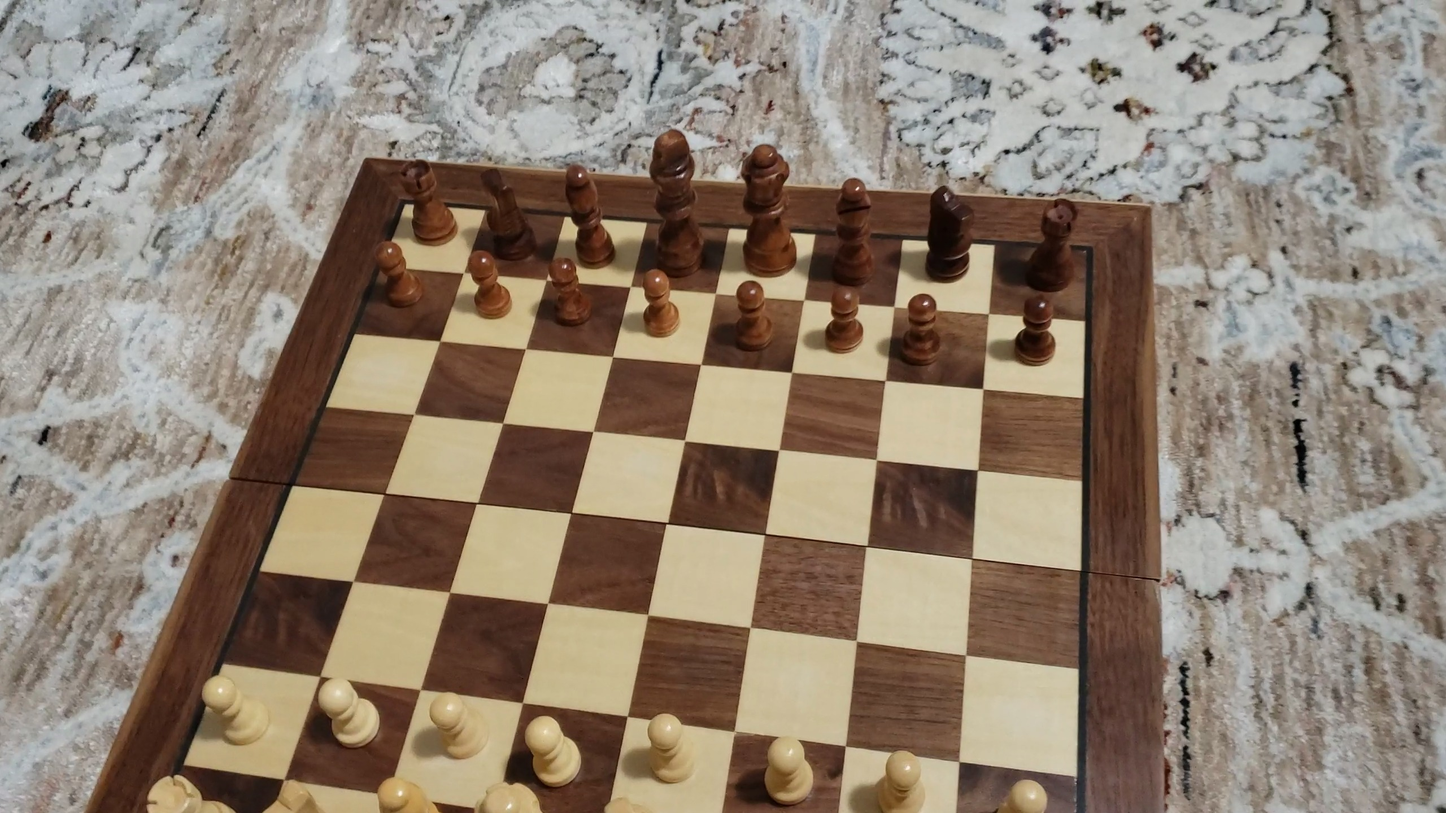black-bishop: (648, 126, 703, 276), (562, 159, 617, 269), (833, 174, 874, 286)
black-knight: (478, 164, 539, 263), (923, 182, 975, 282)
black-pawn: (373, 238, 423, 311), (546, 253, 593, 329), (1013, 292, 1060, 367), (899, 291, 944, 368), (468, 247, 512, 321), (639, 266, 681, 340), (733, 278, 773, 355), (825, 284, 864, 355)
black-queen: (737, 140, 796, 277)
black-rook: (1024, 197, 1079, 294), (398, 158, 457, 245)
white-pawn: (196, 672, 276, 750), (313, 675, 385, 751), (759, 732, 821, 811), (424, 689, 491, 762), (641, 709, 702, 788), (523, 713, 584, 791), (874, 744, 932, 812)
